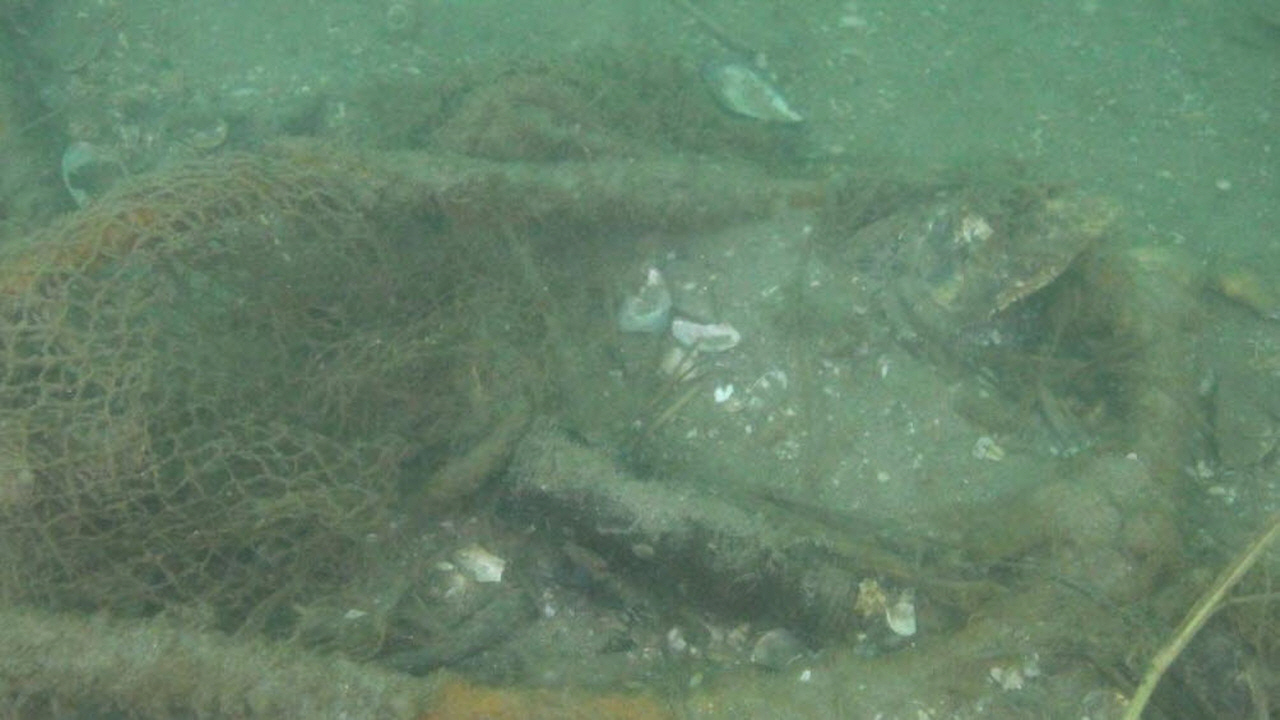fish net: (0, 148, 559, 661)
